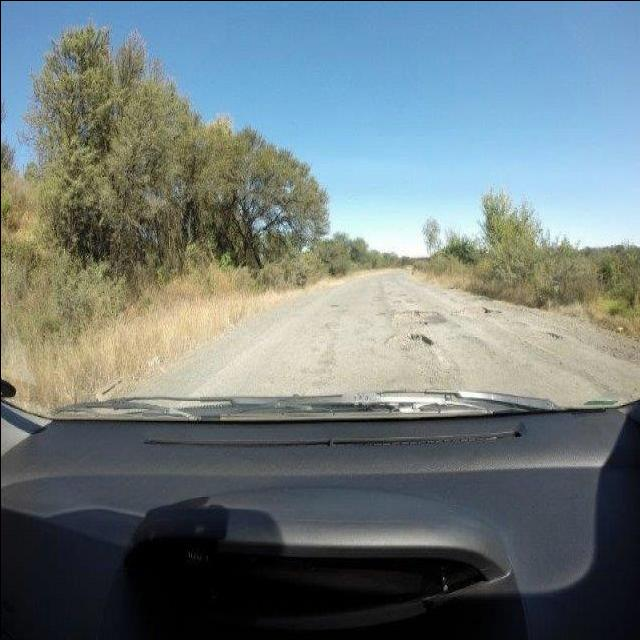lubang: (385, 327, 434, 357), (389, 307, 443, 329), (451, 300, 501, 318), (536, 328, 566, 344)
